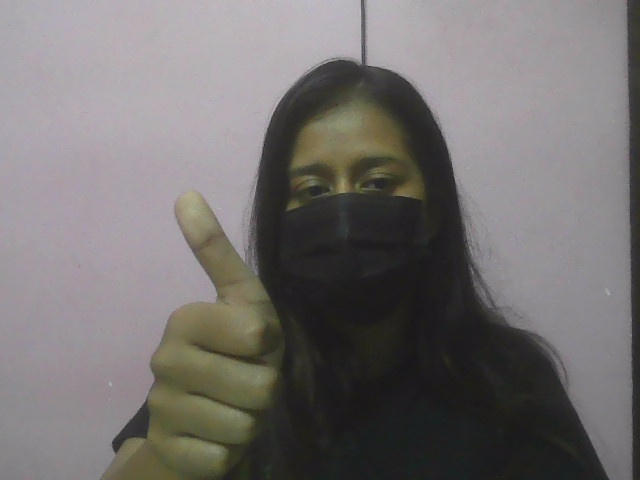Good: (101, 175, 317, 479)
